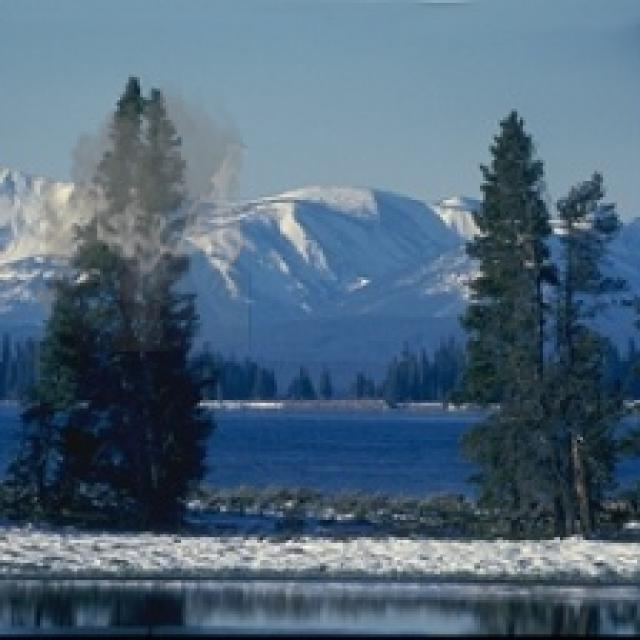Smoke: (25, 68, 252, 352)
